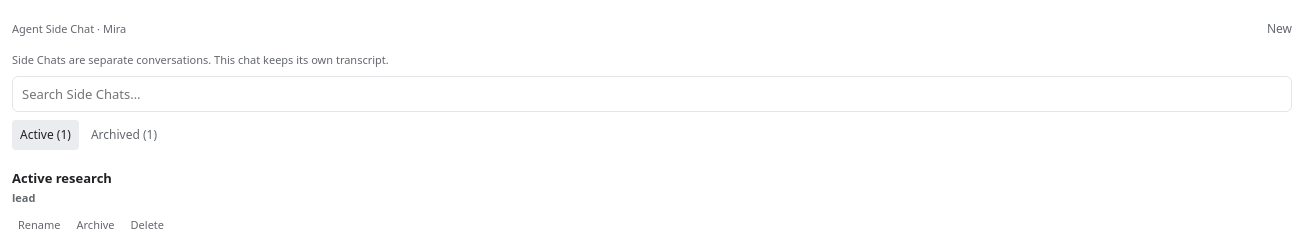
Test case: SideChatList › marks Side Chats as separate and separates active from archived
Expected: the text "Side Chats are separate conversations." is shown, 12,52 -> 211,67
Expected: the text "Active research" is shown, 12,169 -> 112,187
Click the tab "Archived (1)" at (124, 135), box 83,120 -> 165,150
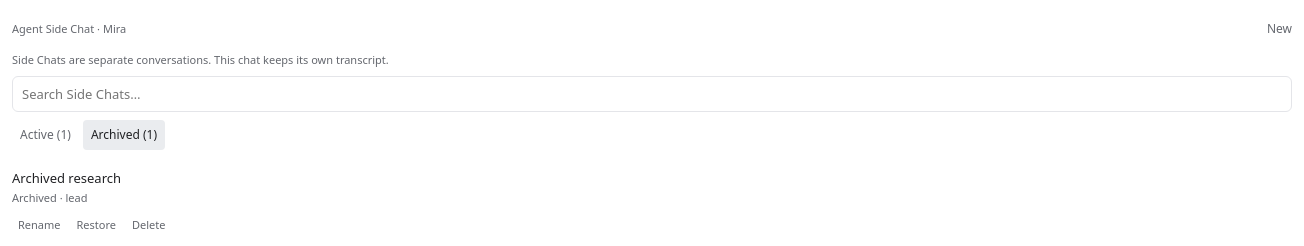
Expected: the text "Archived research" is shown, 12,169 -> 121,187
Expected: the button "Active research" is gone
